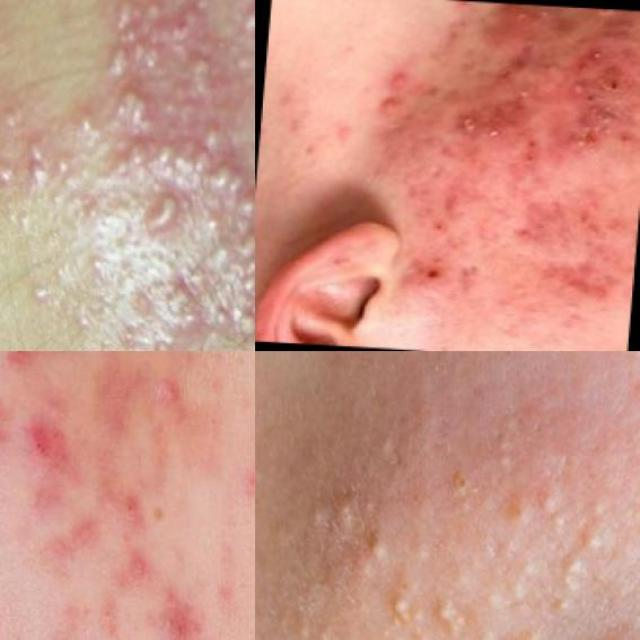7: (521, 478, 618, 551), (478, 554, 556, 616), (301, 492, 362, 546), (355, 530, 407, 580), (552, 556, 594, 608), (382, 584, 425, 631), (427, 597, 473, 640), (540, 592, 584, 628), (372, 430, 408, 467), (459, 619, 518, 640), (499, 619, 555, 640)
8: (150, 568, 203, 640), (20, 410, 81, 470), (0, 144, 29, 206), (152, 366, 196, 406), (123, 478, 154, 527), (123, 545, 150, 586)
9: (98, 0, 181, 45), (8, 135, 61, 195), (156, 269, 205, 331), (62, 98, 106, 156), (208, 293, 255, 347), (178, 47, 225, 99), (0, 92, 34, 150), (145, 192, 187, 233), (193, 115, 233, 156), (227, 259, 255, 310), (228, 0, 255, 49), (228, 218, 255, 264)
blackheads: (103, 132, 221, 189), (94, 34, 175, 90), (100, 81, 162, 137), (206, 155, 255, 223), (568, 104, 633, 152), (563, 271, 615, 312)
pustules: (478, 3, 553, 58), (374, 87, 402, 124)
